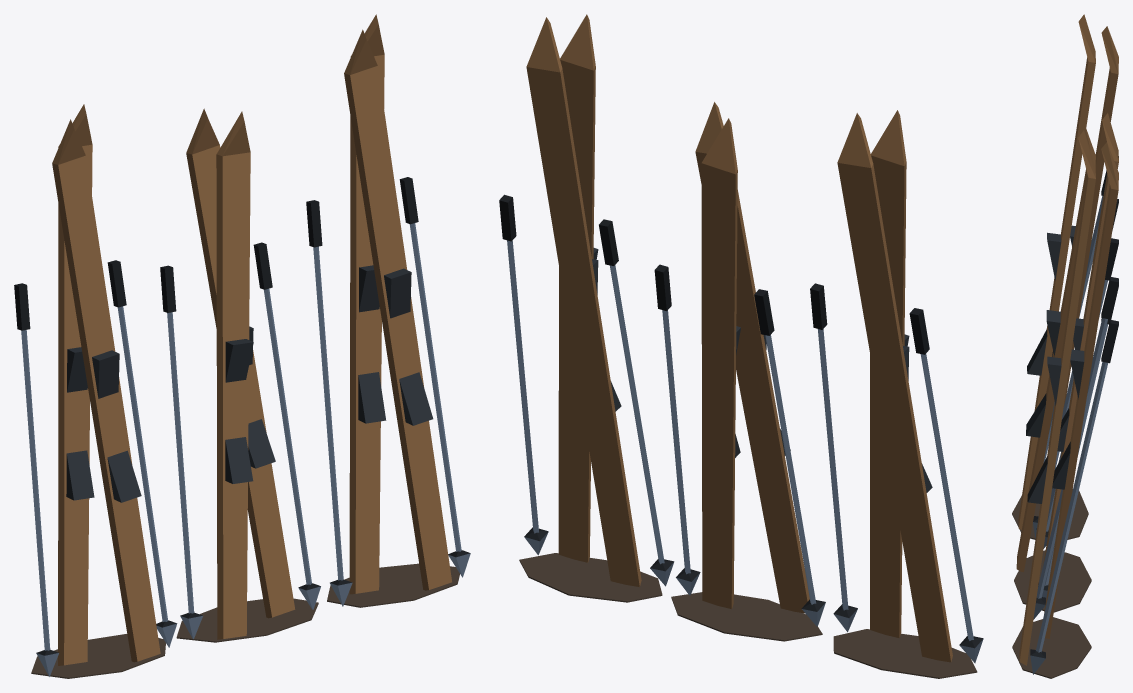
Rendered from ski-and-pole-stack-9d4d53.glb.
3 views of the same model, side by side, from view 1: azimuth 30°, elevation 25°; view 2: azimuth 150°, elevation 25°; view 3: azimuth 270°, elevation 25° (orthographic). The views are drawn at different scales.
Parts seen in each view (by area): view 1: pair-3-mesh, pair-1-mesh, pair-2-mesh, stack-melt-stain; view 2: pair-3-mesh, pair-1-mesh, pair-2-mesh, stack-melt-stain; view 3: pair-3-mesh, pair-1-mesh, pair-2-mesh, stack-melt-stain.
Part boxes in pixels (x1=…): pair-3-mesh: x1=306, y1=14, x2=470, y2=606; pair-1-mesh: x1=14, y1=104, x2=177, y2=676; pair-2-mesh: x1=160, y1=108, x2=320, y2=639; stack-melt-stain: x1=31, y1=563, x2=459, y2=678; pair-3-mesh: x1=499, y1=14, x2=674, y2=586; pair-1-mesh: x1=810, y1=110, x2=983, y2=663; pair-2-mesh: x1=654, y1=102, x2=825, y2=626; stack-melt-stain: x1=519, y1=553, x2=977, y2=678; pair-3-mesh: x1=1019, y1=130, x2=1118, y2=674; pair-1-mesh: x1=1018, y1=14, x2=1118, y2=538; pair-2-mesh: x1=1016, y1=113, x2=1118, y2=599; stack-melt-stain: x1=1012, y1=488, x2=1091, y2=678.
Size of the model in its own units: 1.47 by 1.79 by 0.3387.
